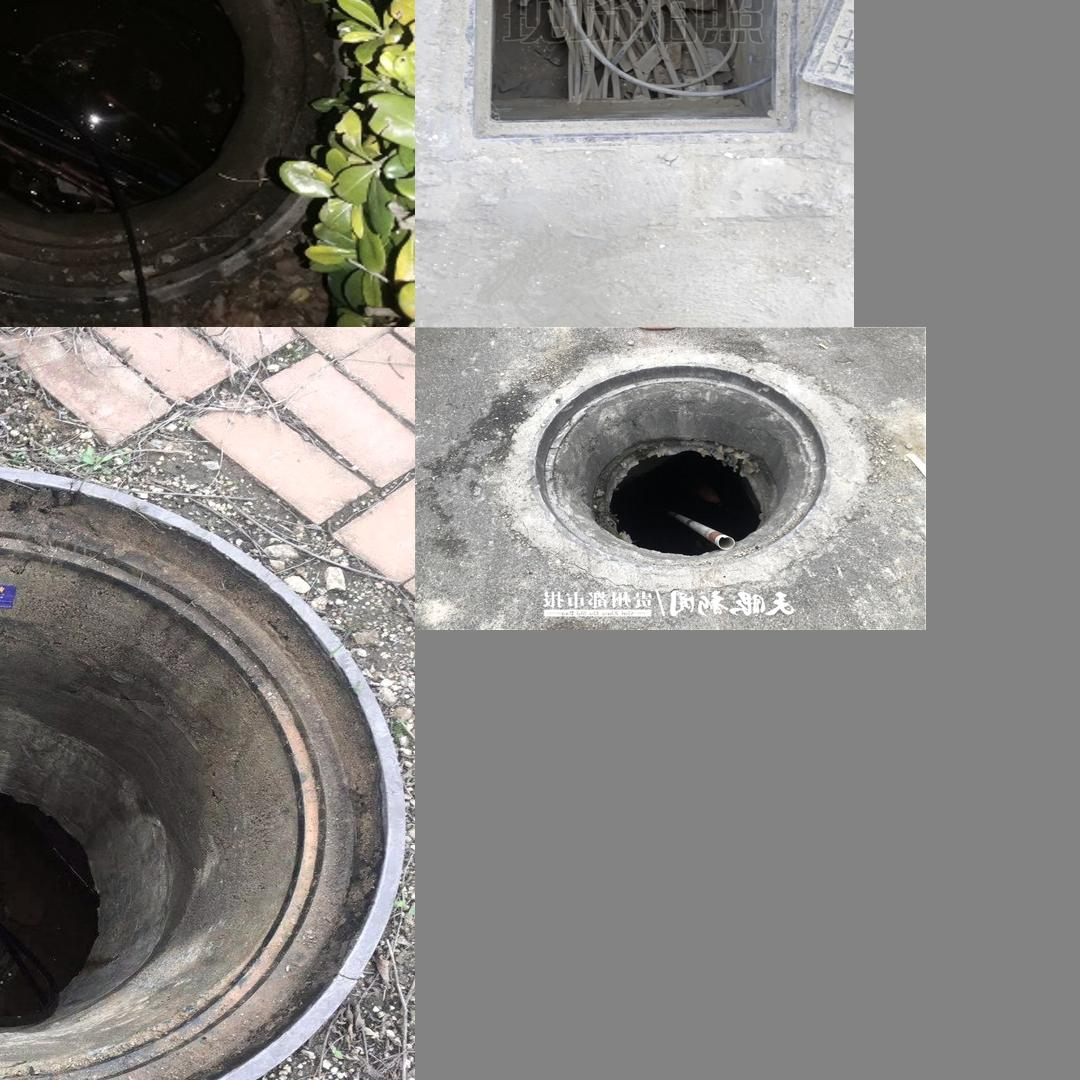lose: (0, 493, 397, 1080), (0, 0, 372, 308), (503, 353, 858, 577), (460, 0, 808, 149)
